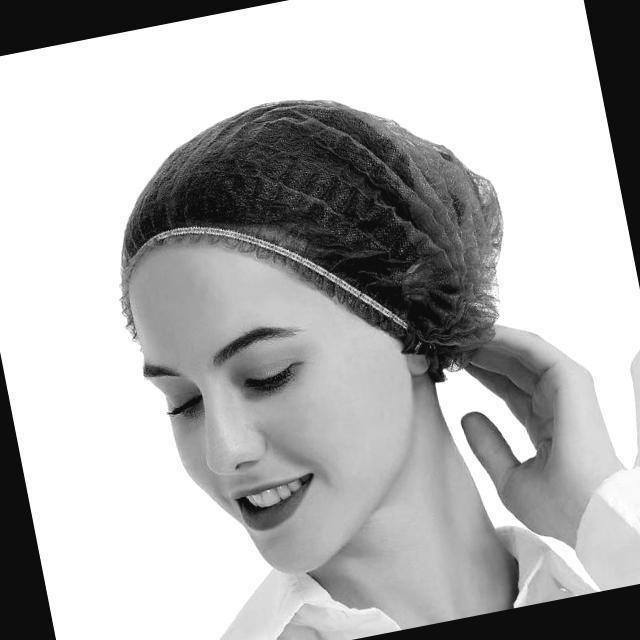gloves: (135, 96, 510, 320)
